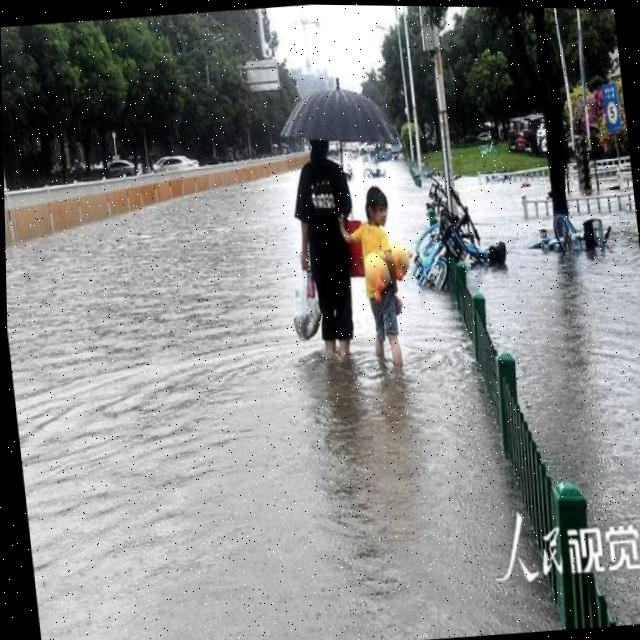civilian: (284, 126, 371, 367), (336, 172, 414, 372)
